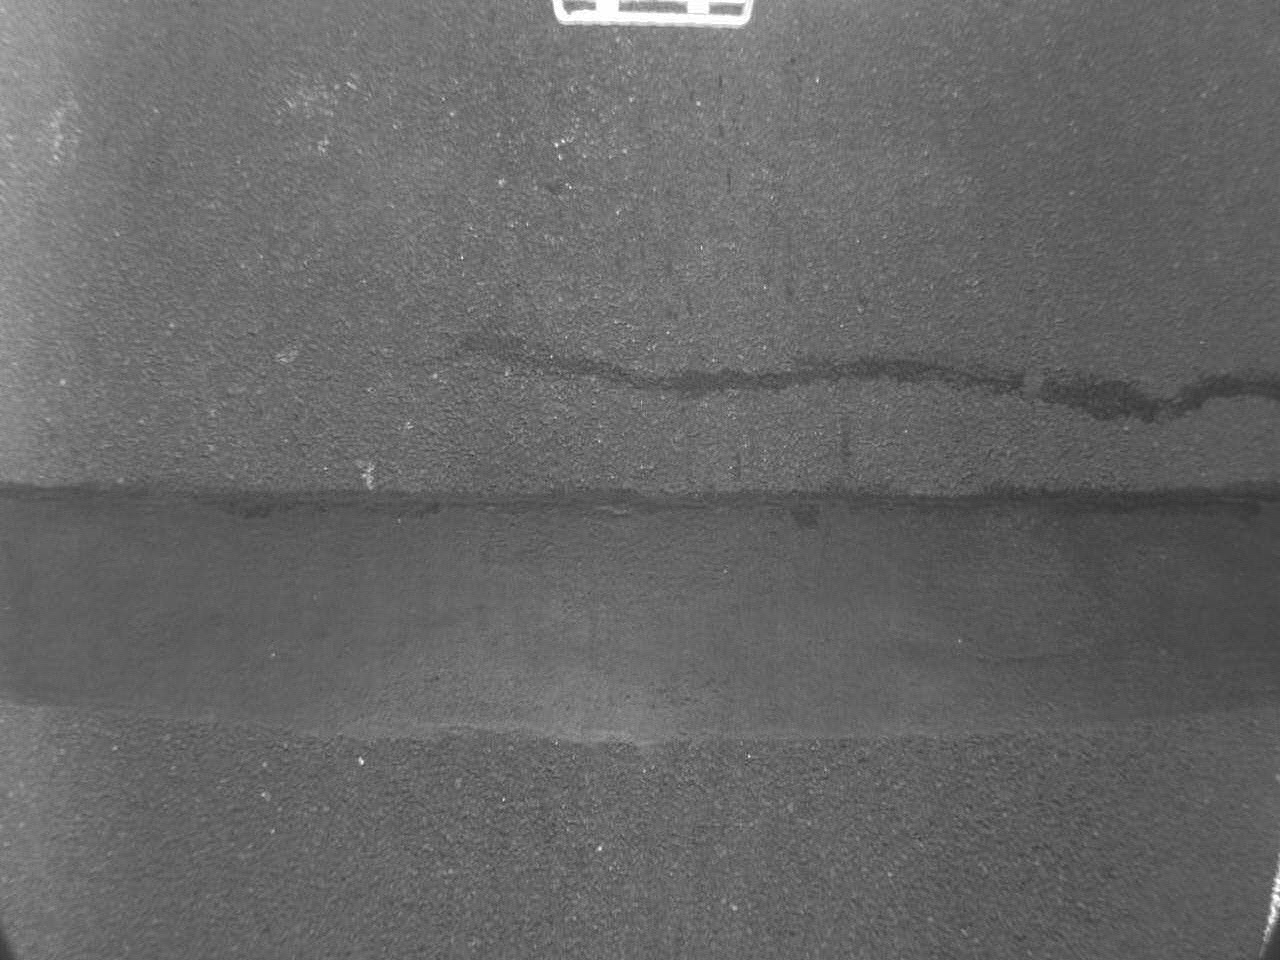sealed: (454, 322, 1270, 422)
